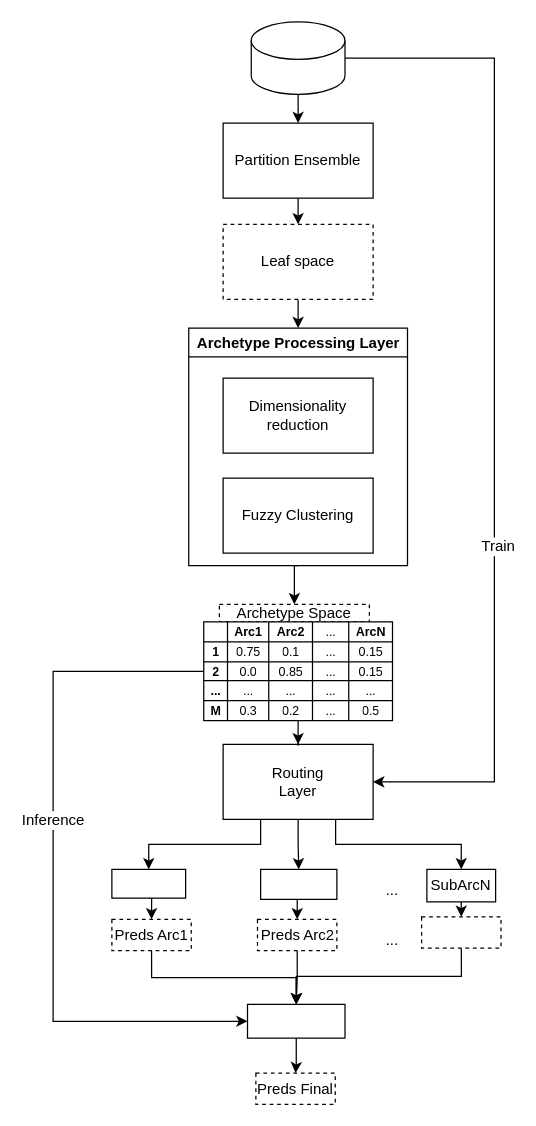
Image size: 536x1126. Some labels were removed from this diagram. The shapes that lost their labels are listed below. From the top down, each one's centre as x and y in pixels, then its label:
(297,57): Data
(148,883): SubArc1
(298,883): SubArc2
(460,932): Preds ArcN
(295,1020): Aggregating Layer
